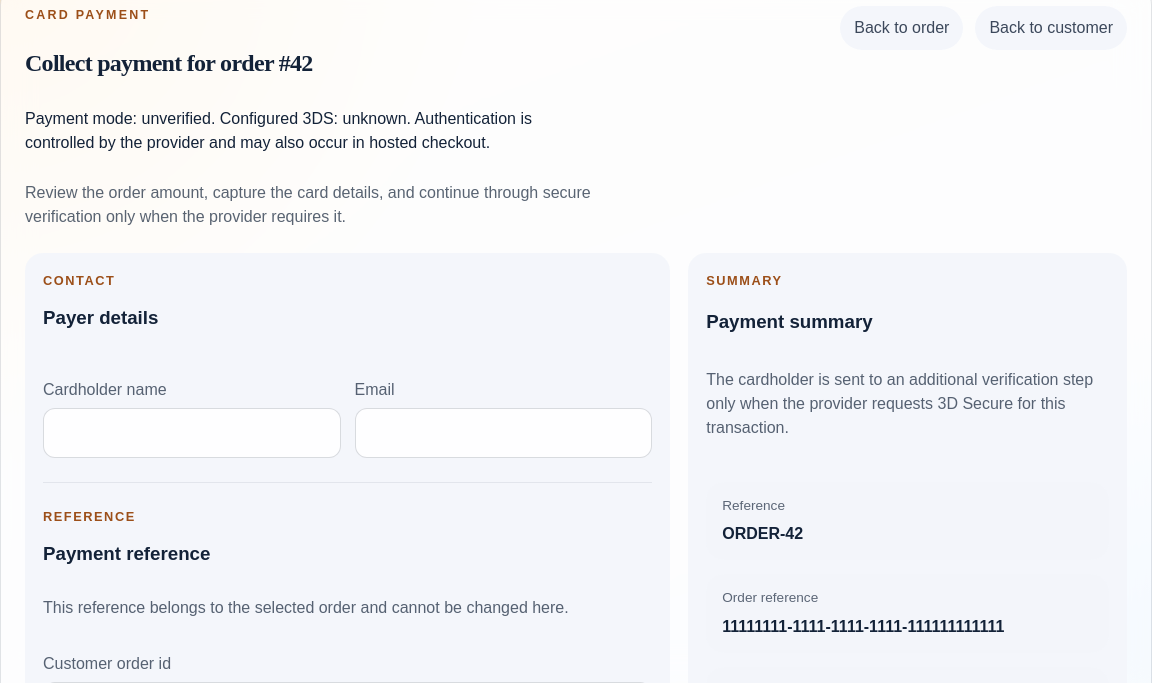
Scenario: PaymentPage › shows a redirect loader before navigating to the 3D Secure challenge
The width and height of the screenshot is (1152, 683).
Type "Alice Smith" into the field labelled "Cardholder name" at [192, 433], box x1=43 y1=408 x2=341 y2=458
Type "alice@example.com" into the field labelled "Email" at [503, 433], box x1=355 y1=408 x2=652 y2=458
(page scrolled)
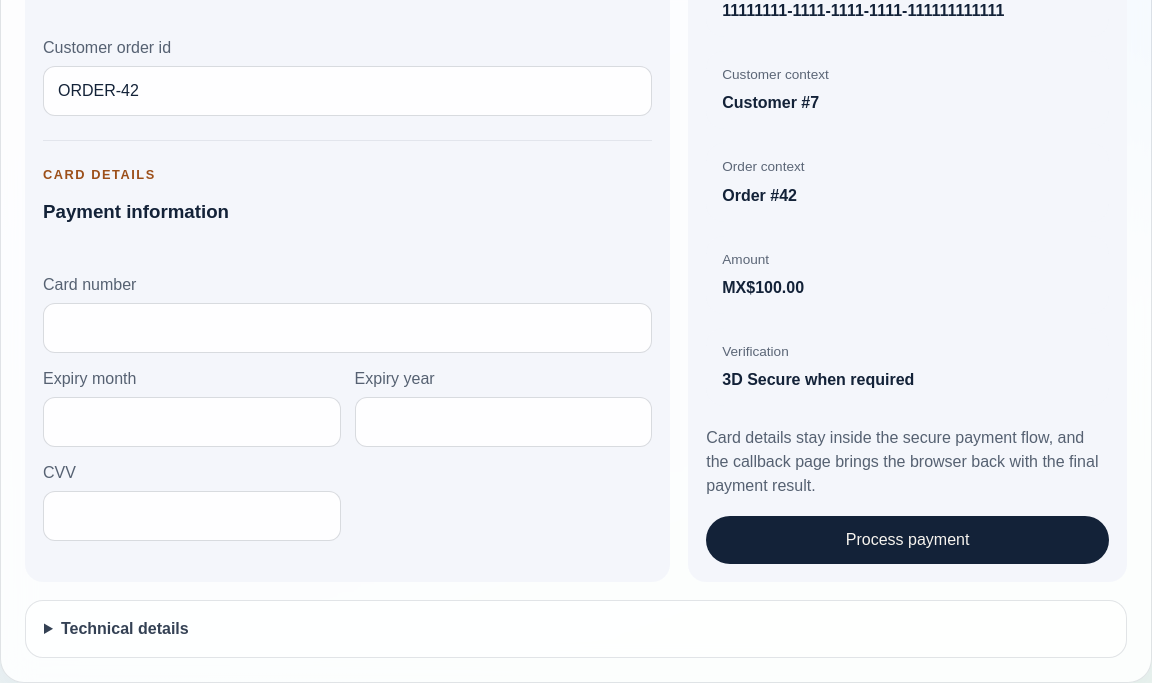
Type "4111111111111111" into the field labelled "Card number" at [348, 328], box x1=43 y1=302 x2=652 y2=352
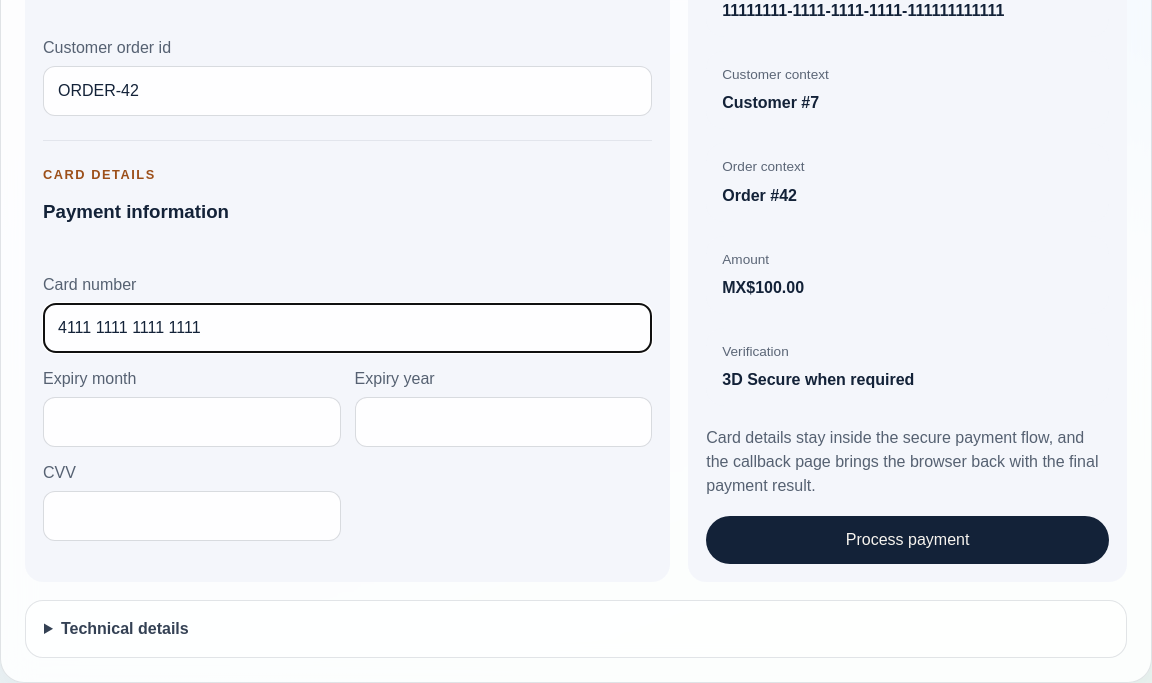
Type "12" into the field labelled "Expiry month" at [192, 422], box x1=43 y1=396 x2=341 y2=446
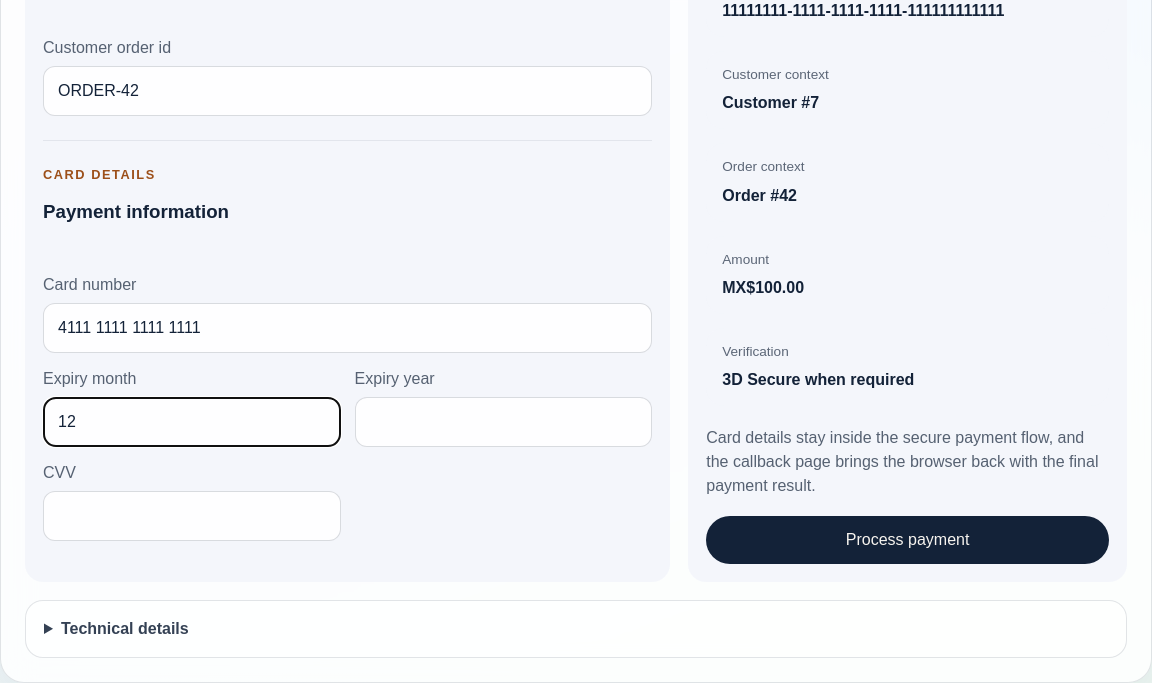
Type "26" into the field labelled "Expiry year" at [503, 422], box x1=355 y1=396 x2=652 y2=446
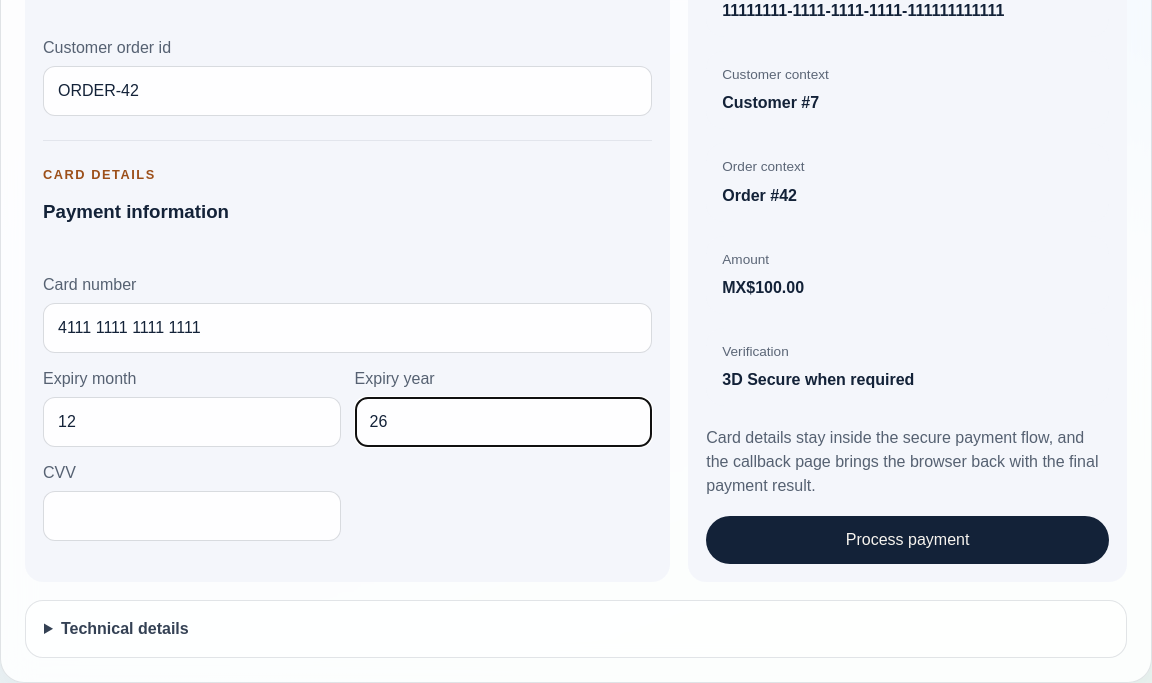
Type "123" into the field labelled "CVV" at [192, 516], box x1=43 y1=490 x2=341 y2=540
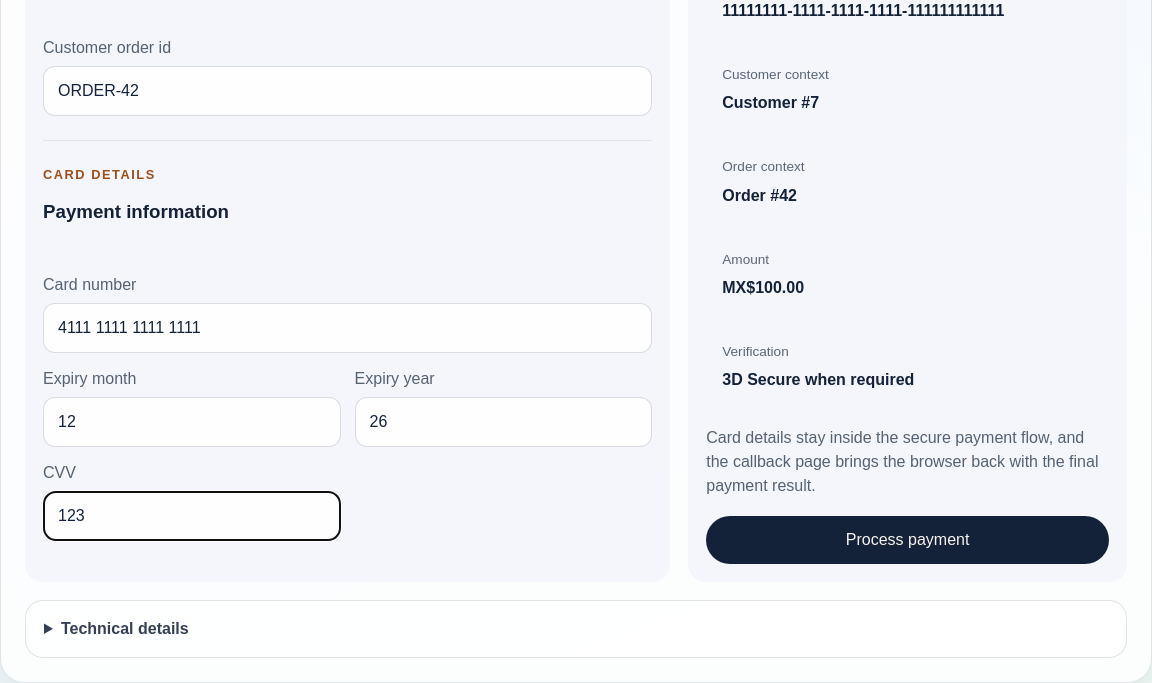
Click the button "Process payment" at [908, 540], box x1=706 y1=516 x2=1109 y2=564
(page scrolled)
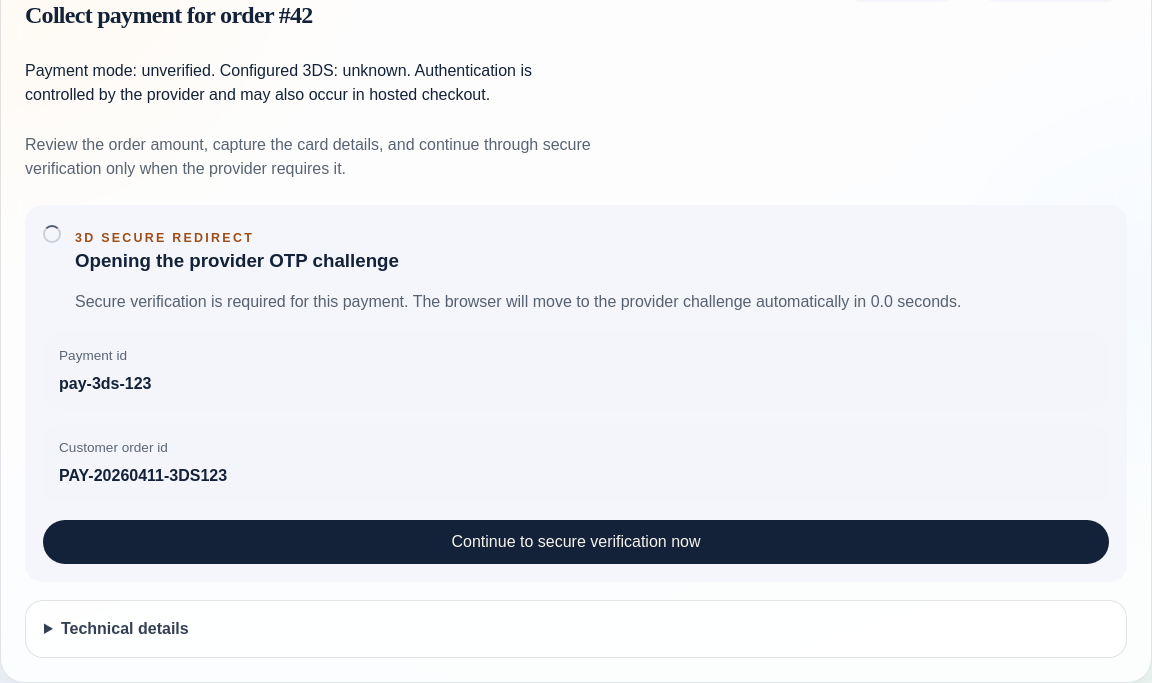
Check: the heading "Opening the provider OTP challenge" is shown, box x1=75 y1=250 x2=399 y2=271
Check: the text "will move to the provider challenge automatically" is shown, box x1=75 y1=292 x2=871 y2=310
Check: the text "Payment result" is gone
